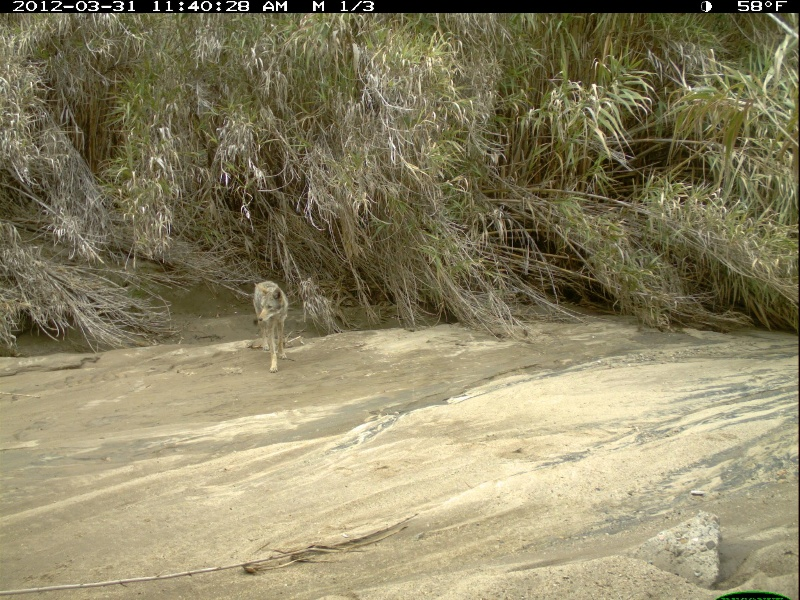coyote: (247, 276, 295, 376)
